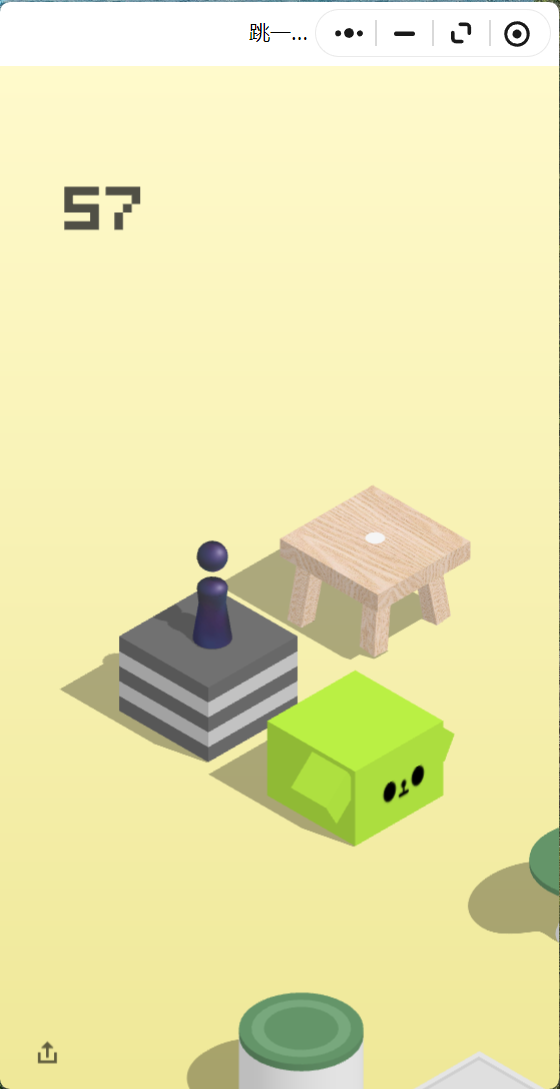piece: (197, 541, 227, 645)
target: (281, 484, 472, 593)
